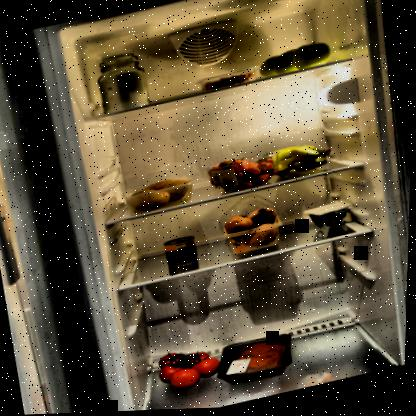apple: (254, 39, 336, 83)
banana: (272, 138, 339, 181)
beef: (231, 338, 287, 379)
corn: (163, 234, 202, 271)
onion: (222, 206, 284, 256)
potato: (124, 174, 200, 218)
shrimp: (196, 67, 260, 96)
strawberries: (205, 150, 283, 196)
tomato: (153, 341, 228, 398)
